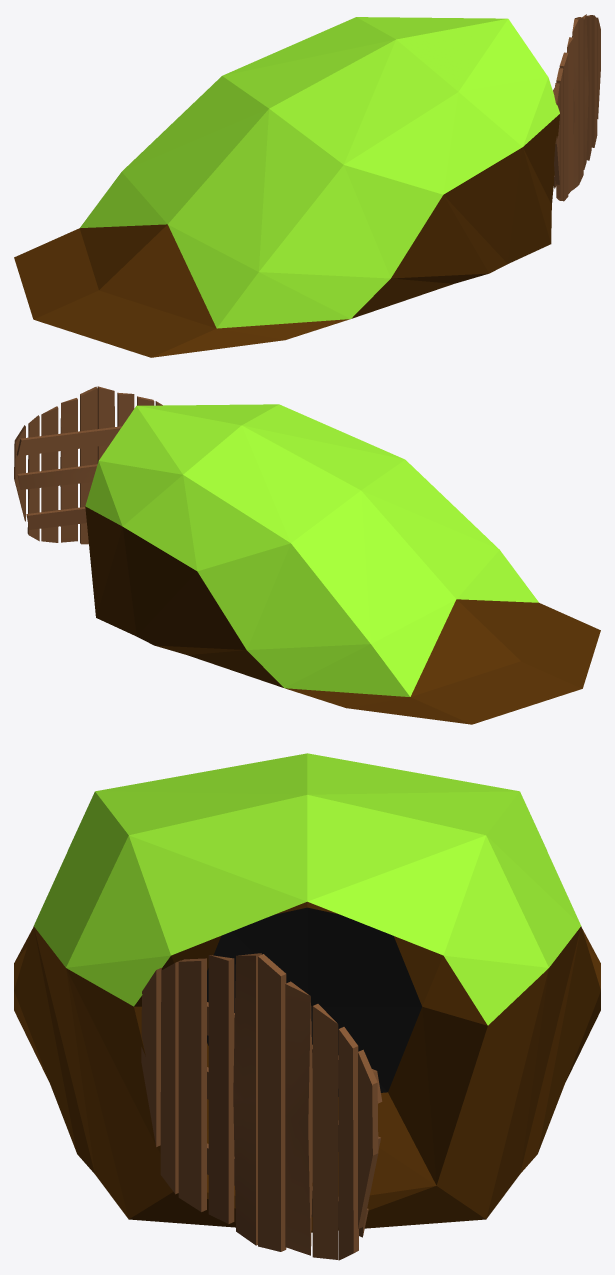
File: rabbithole.fbx
3 renders of one model, top to bottom at view 1: azimuth 30°, elevation 25°; view 2: azimuth 150°, elevation 25°; view 3: azimuth 270°, elevation 25°, orthographic. The views are drawn at different scales.
Parts seen in each view (by area): view 1: rabbithole; view 2: rabbithole; view 3: rabbithole.
Boxes of the visible parts, box(x1,y1,x2,y2) form: rabbithole: box(14, 14, 600, 357); rabbithole: box(14, 386, 600, 724); rabbithole: box(14, 753, 600, 1260).
Bounding box in the file's own units: 3.49 × 1.1 × 1.73.
